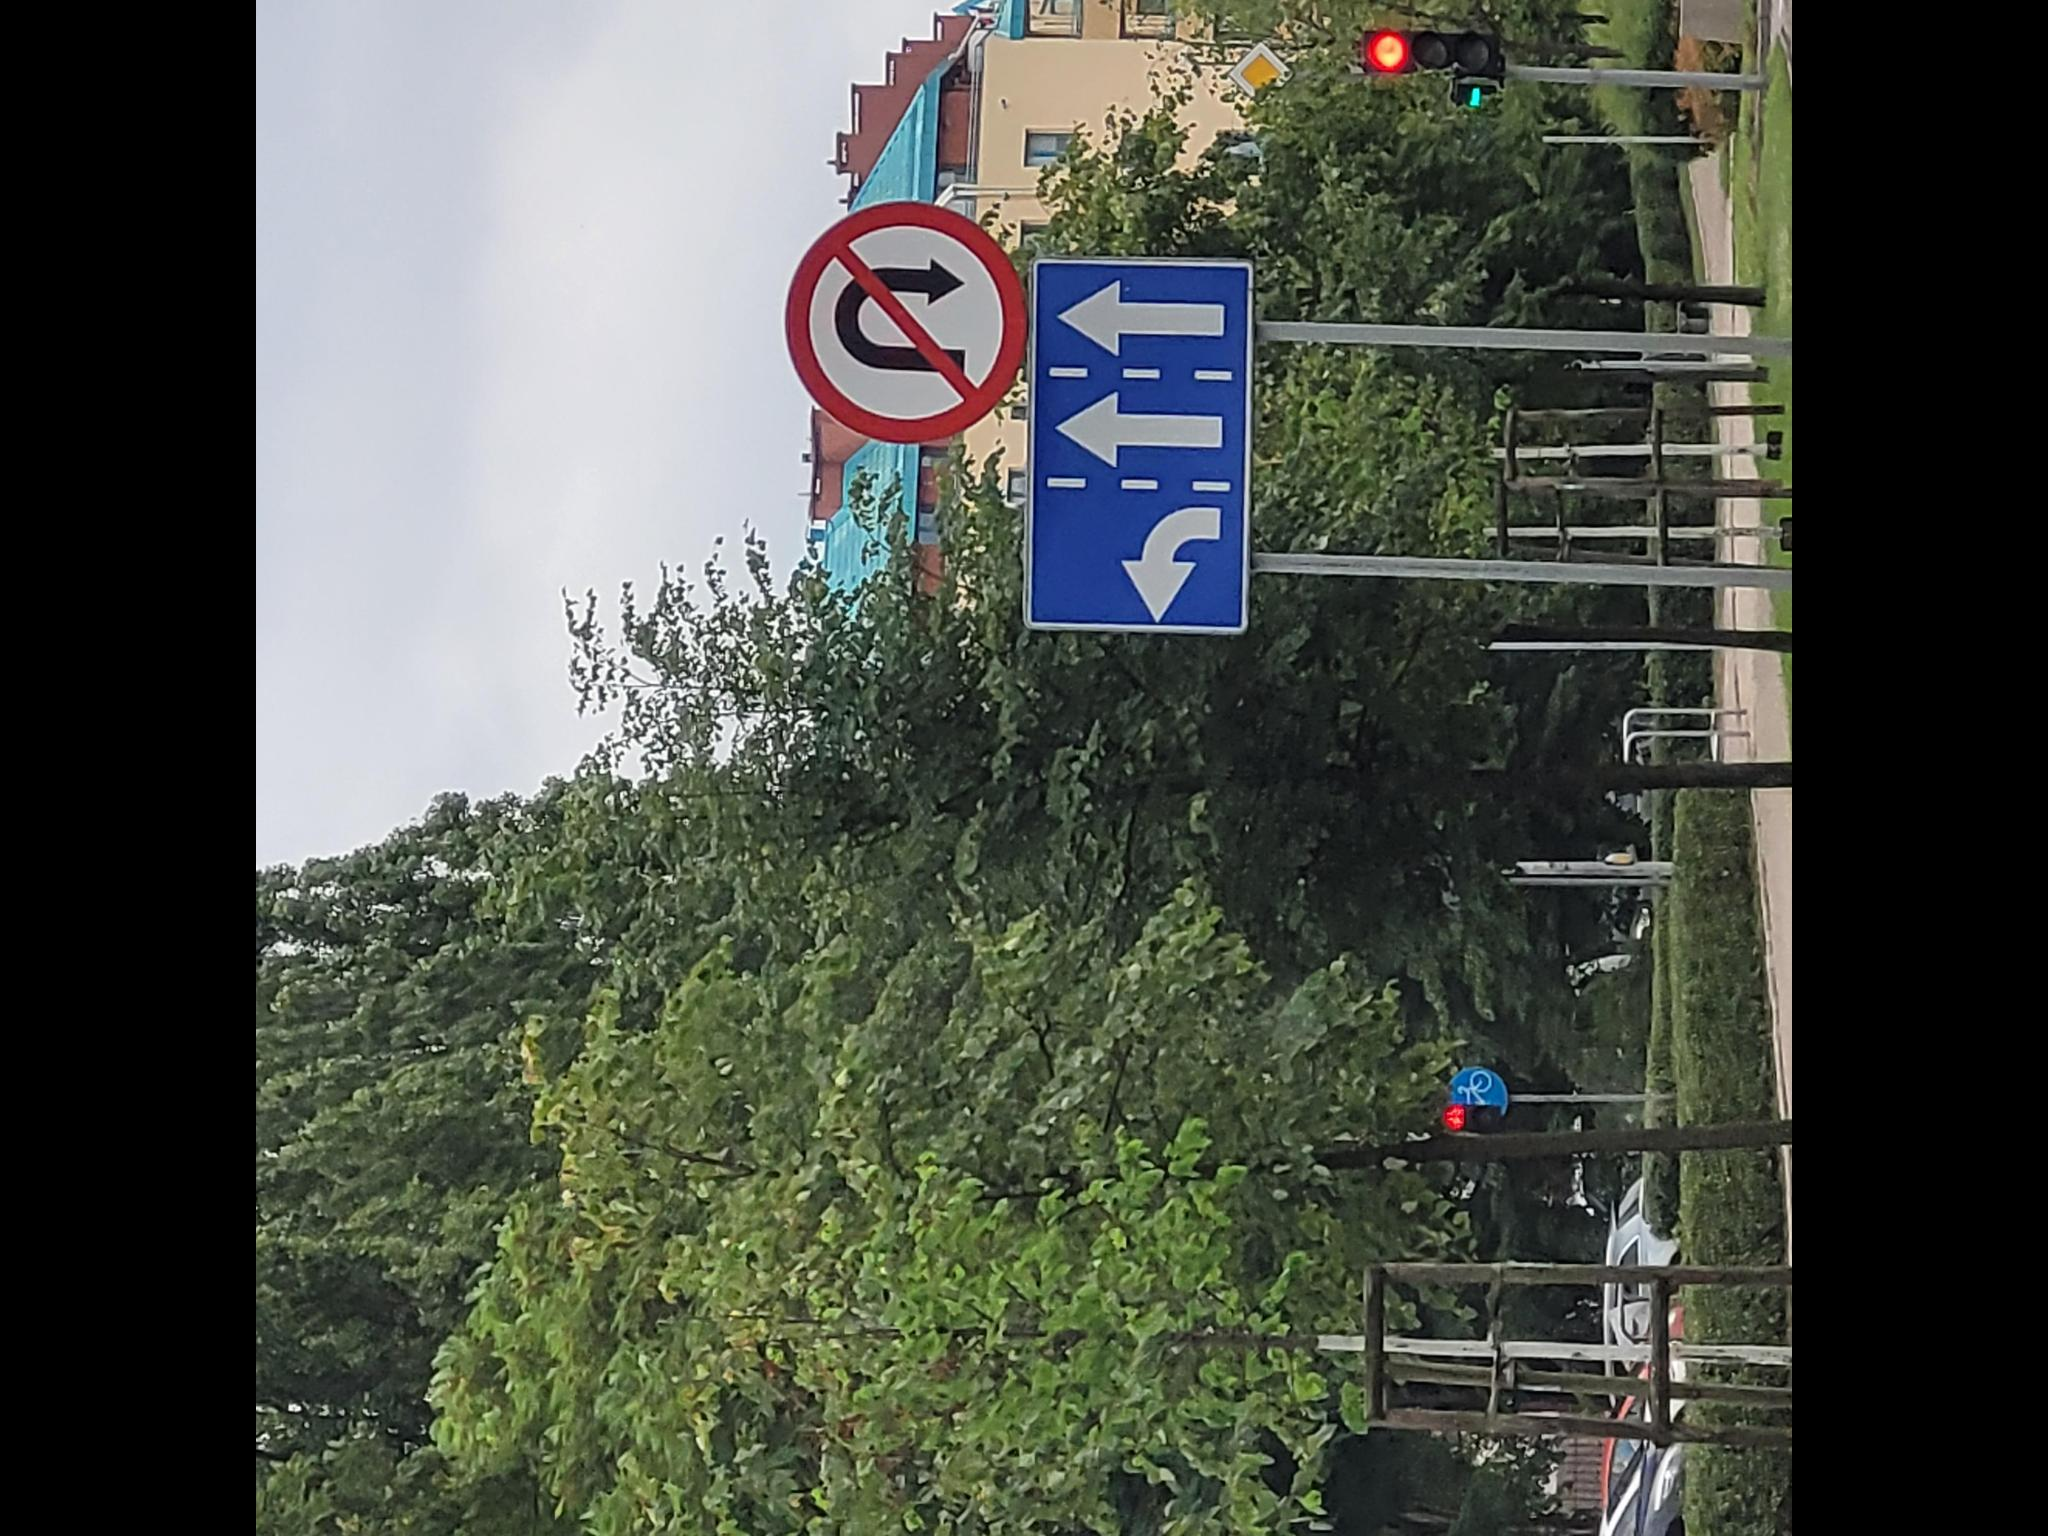mandatory: (1445, 1063, 1513, 1126)
other: (1022, 255, 1259, 637)
prohibitory: (779, 198, 1030, 445)
